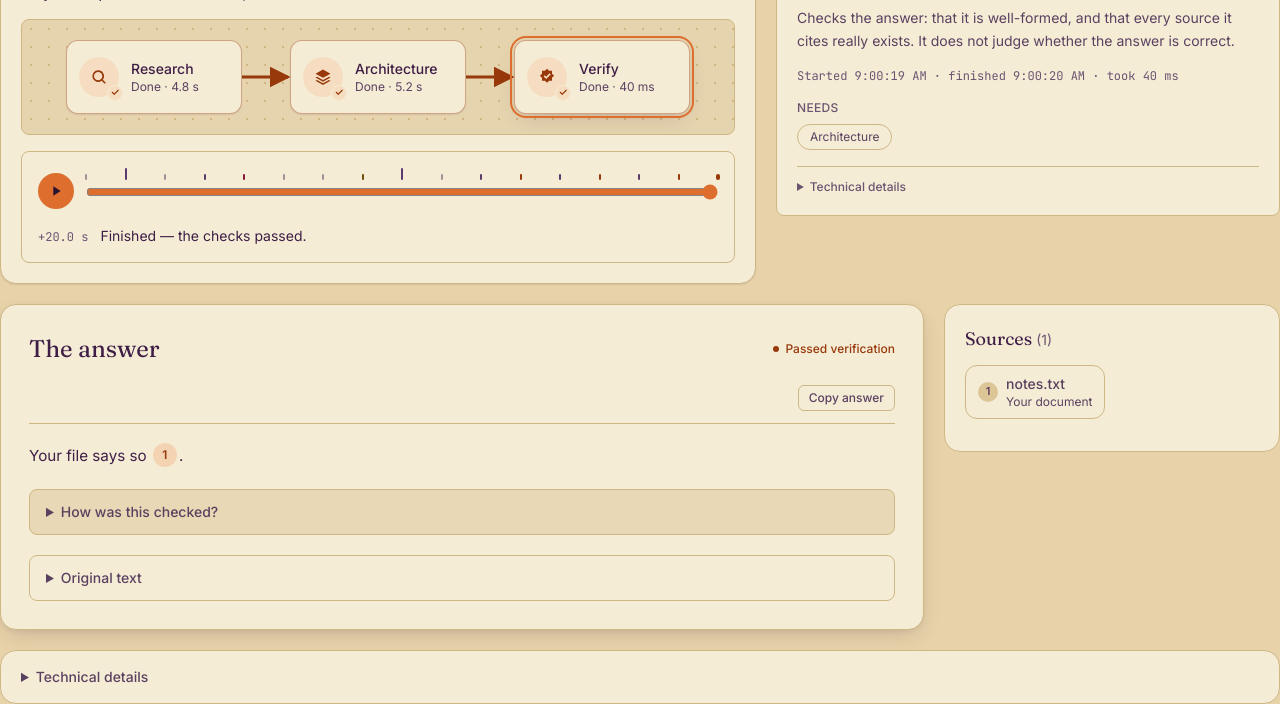
Test: MissionCockpit — a finished, verified mission › shows only the plain-text note when a source's own text is not kept
(page scrolled)
Click the button named "Source 1: Your document" at (165, 455), box [153,443,177,467]
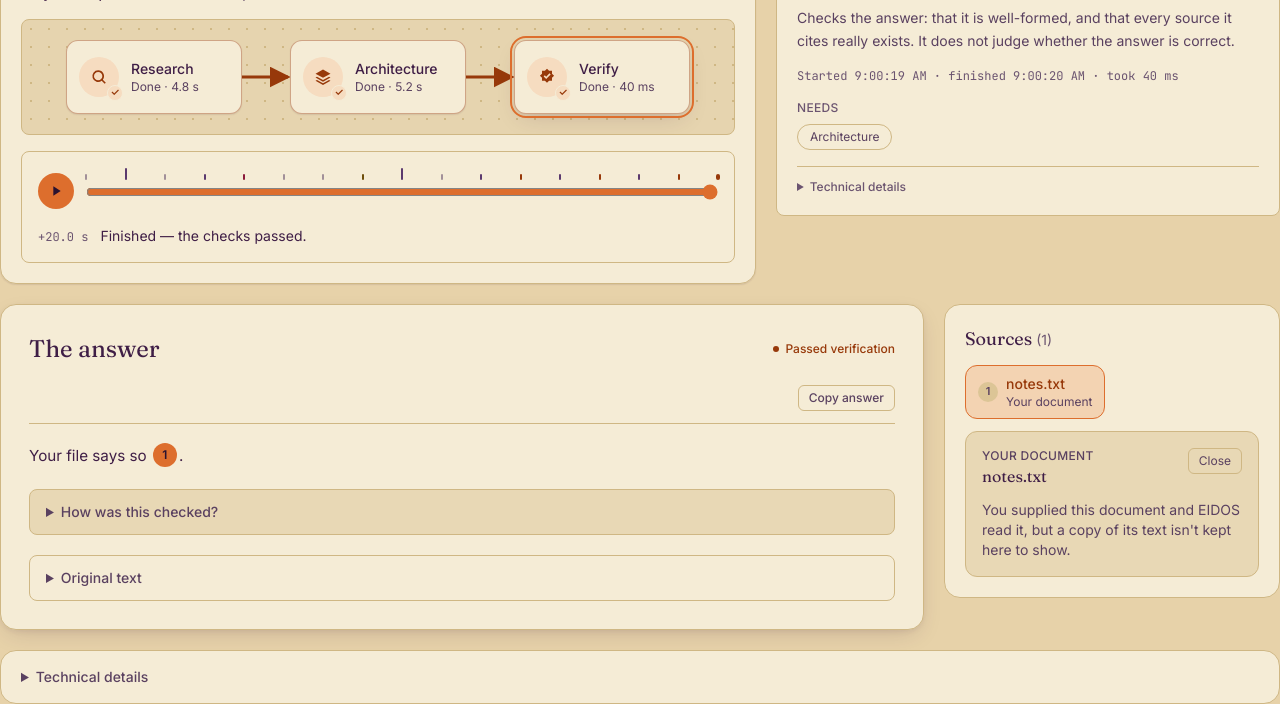
Expected: the text "You supplied this document" is shown, [982,501,1240,558]
